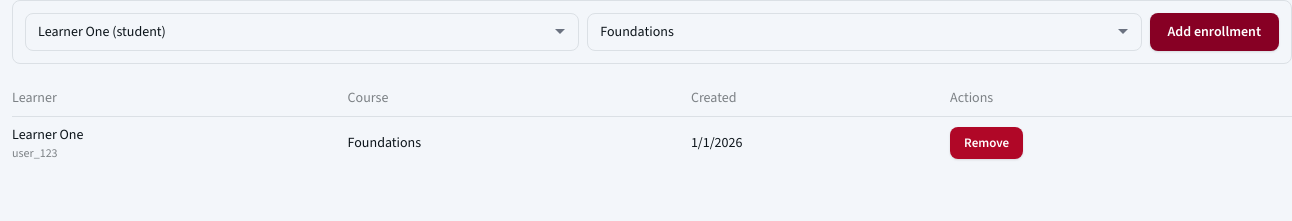
Test: ParishEnrollmentManager › shows a fallback remove failure when an error response has invalid JSON
Click the button "Remove" at (987, 143), box [950, 127, 1023, 159]
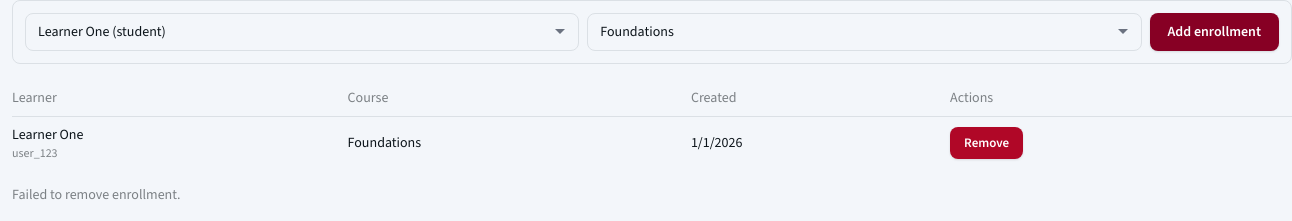
Check: the text "Failed to remove enrollment." is shown, box [12, 185, 180, 204]
